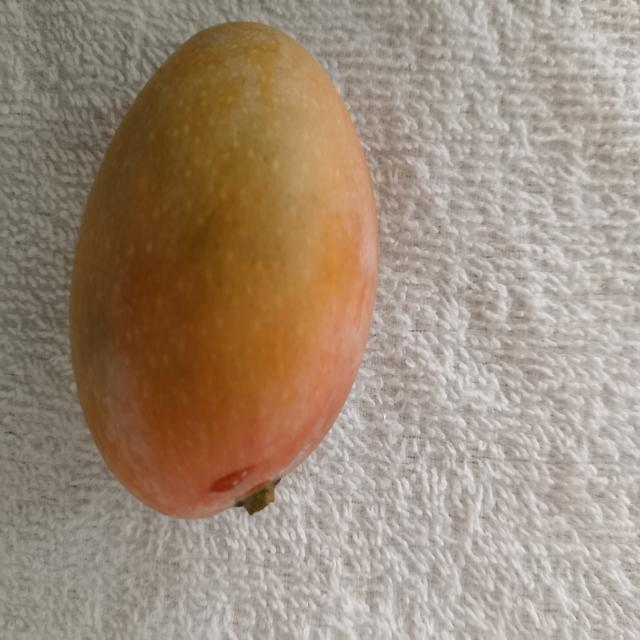mango: (68, 14, 382, 522)
